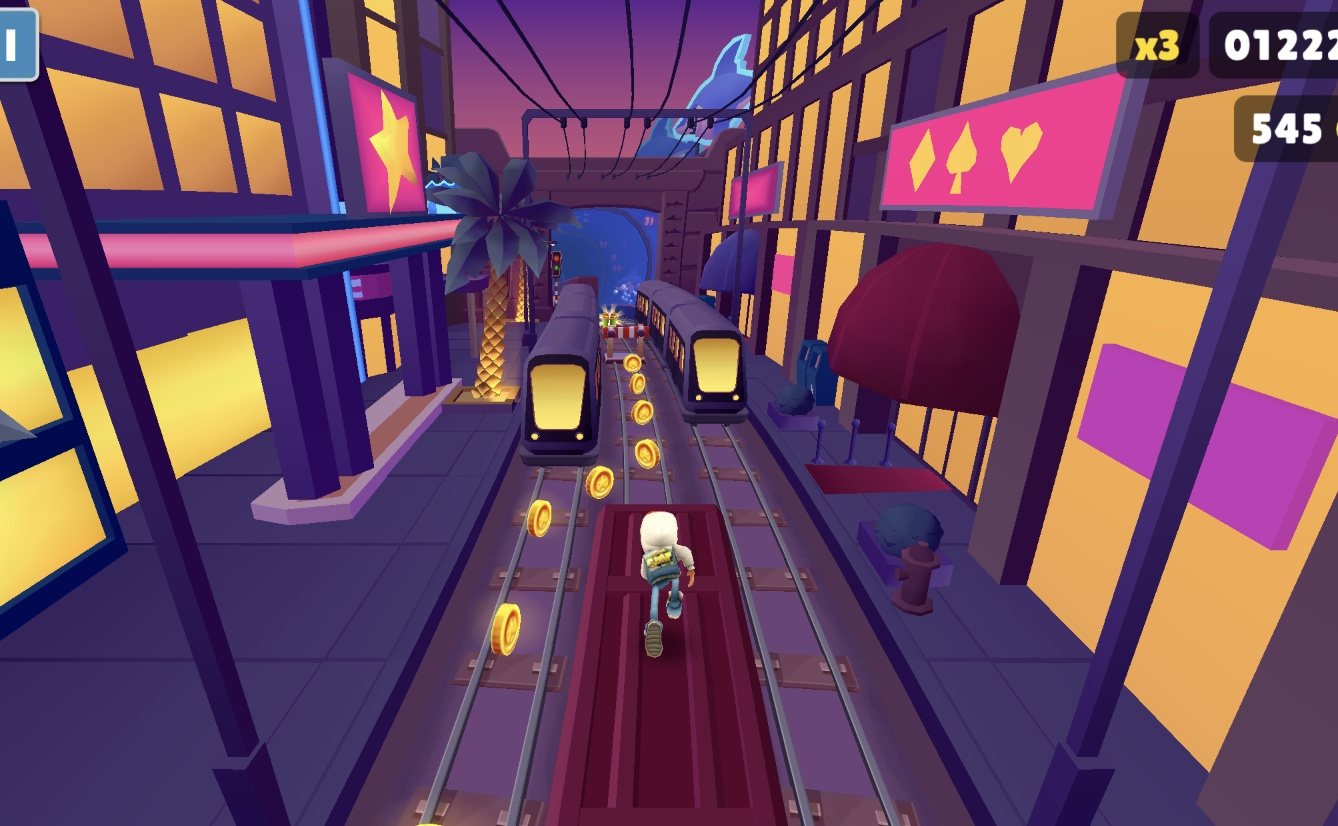ground_barrier: (599, 319, 627, 364)
train: (549, 502, 854, 826), (627, 284, 746, 429), (519, 287, 604, 457)
